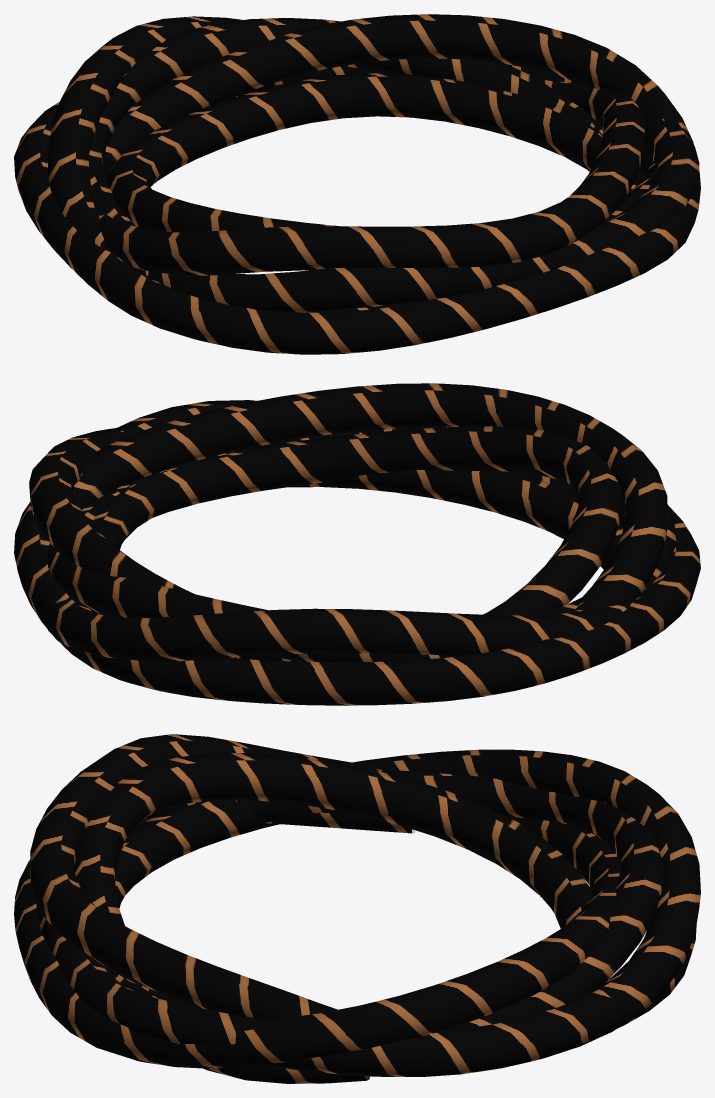
Rendered from rope.fbx.
3 views of the same model, one above another, from view 1: azimuth 30°, elevation 25°; view 2: azimuth 150°, elevation 25°; view 3: azimuth 270°, elevation 25° (orthographic). The views are drawn at different scales.
Parts seen in each view (by area): view 1: rope1; view 2: rope1; view 3: rope1.
Boxes of the visible parts, left/top/right/bottom form: rope1: left=14, top=14, right=700, bottom=354; rope1: left=14, top=383, right=700, bottom=705; rope1: left=14, top=734, right=700, bottom=1083.
Bounding box in the file's own units: 10.86 × 1.96 × 10.43.
